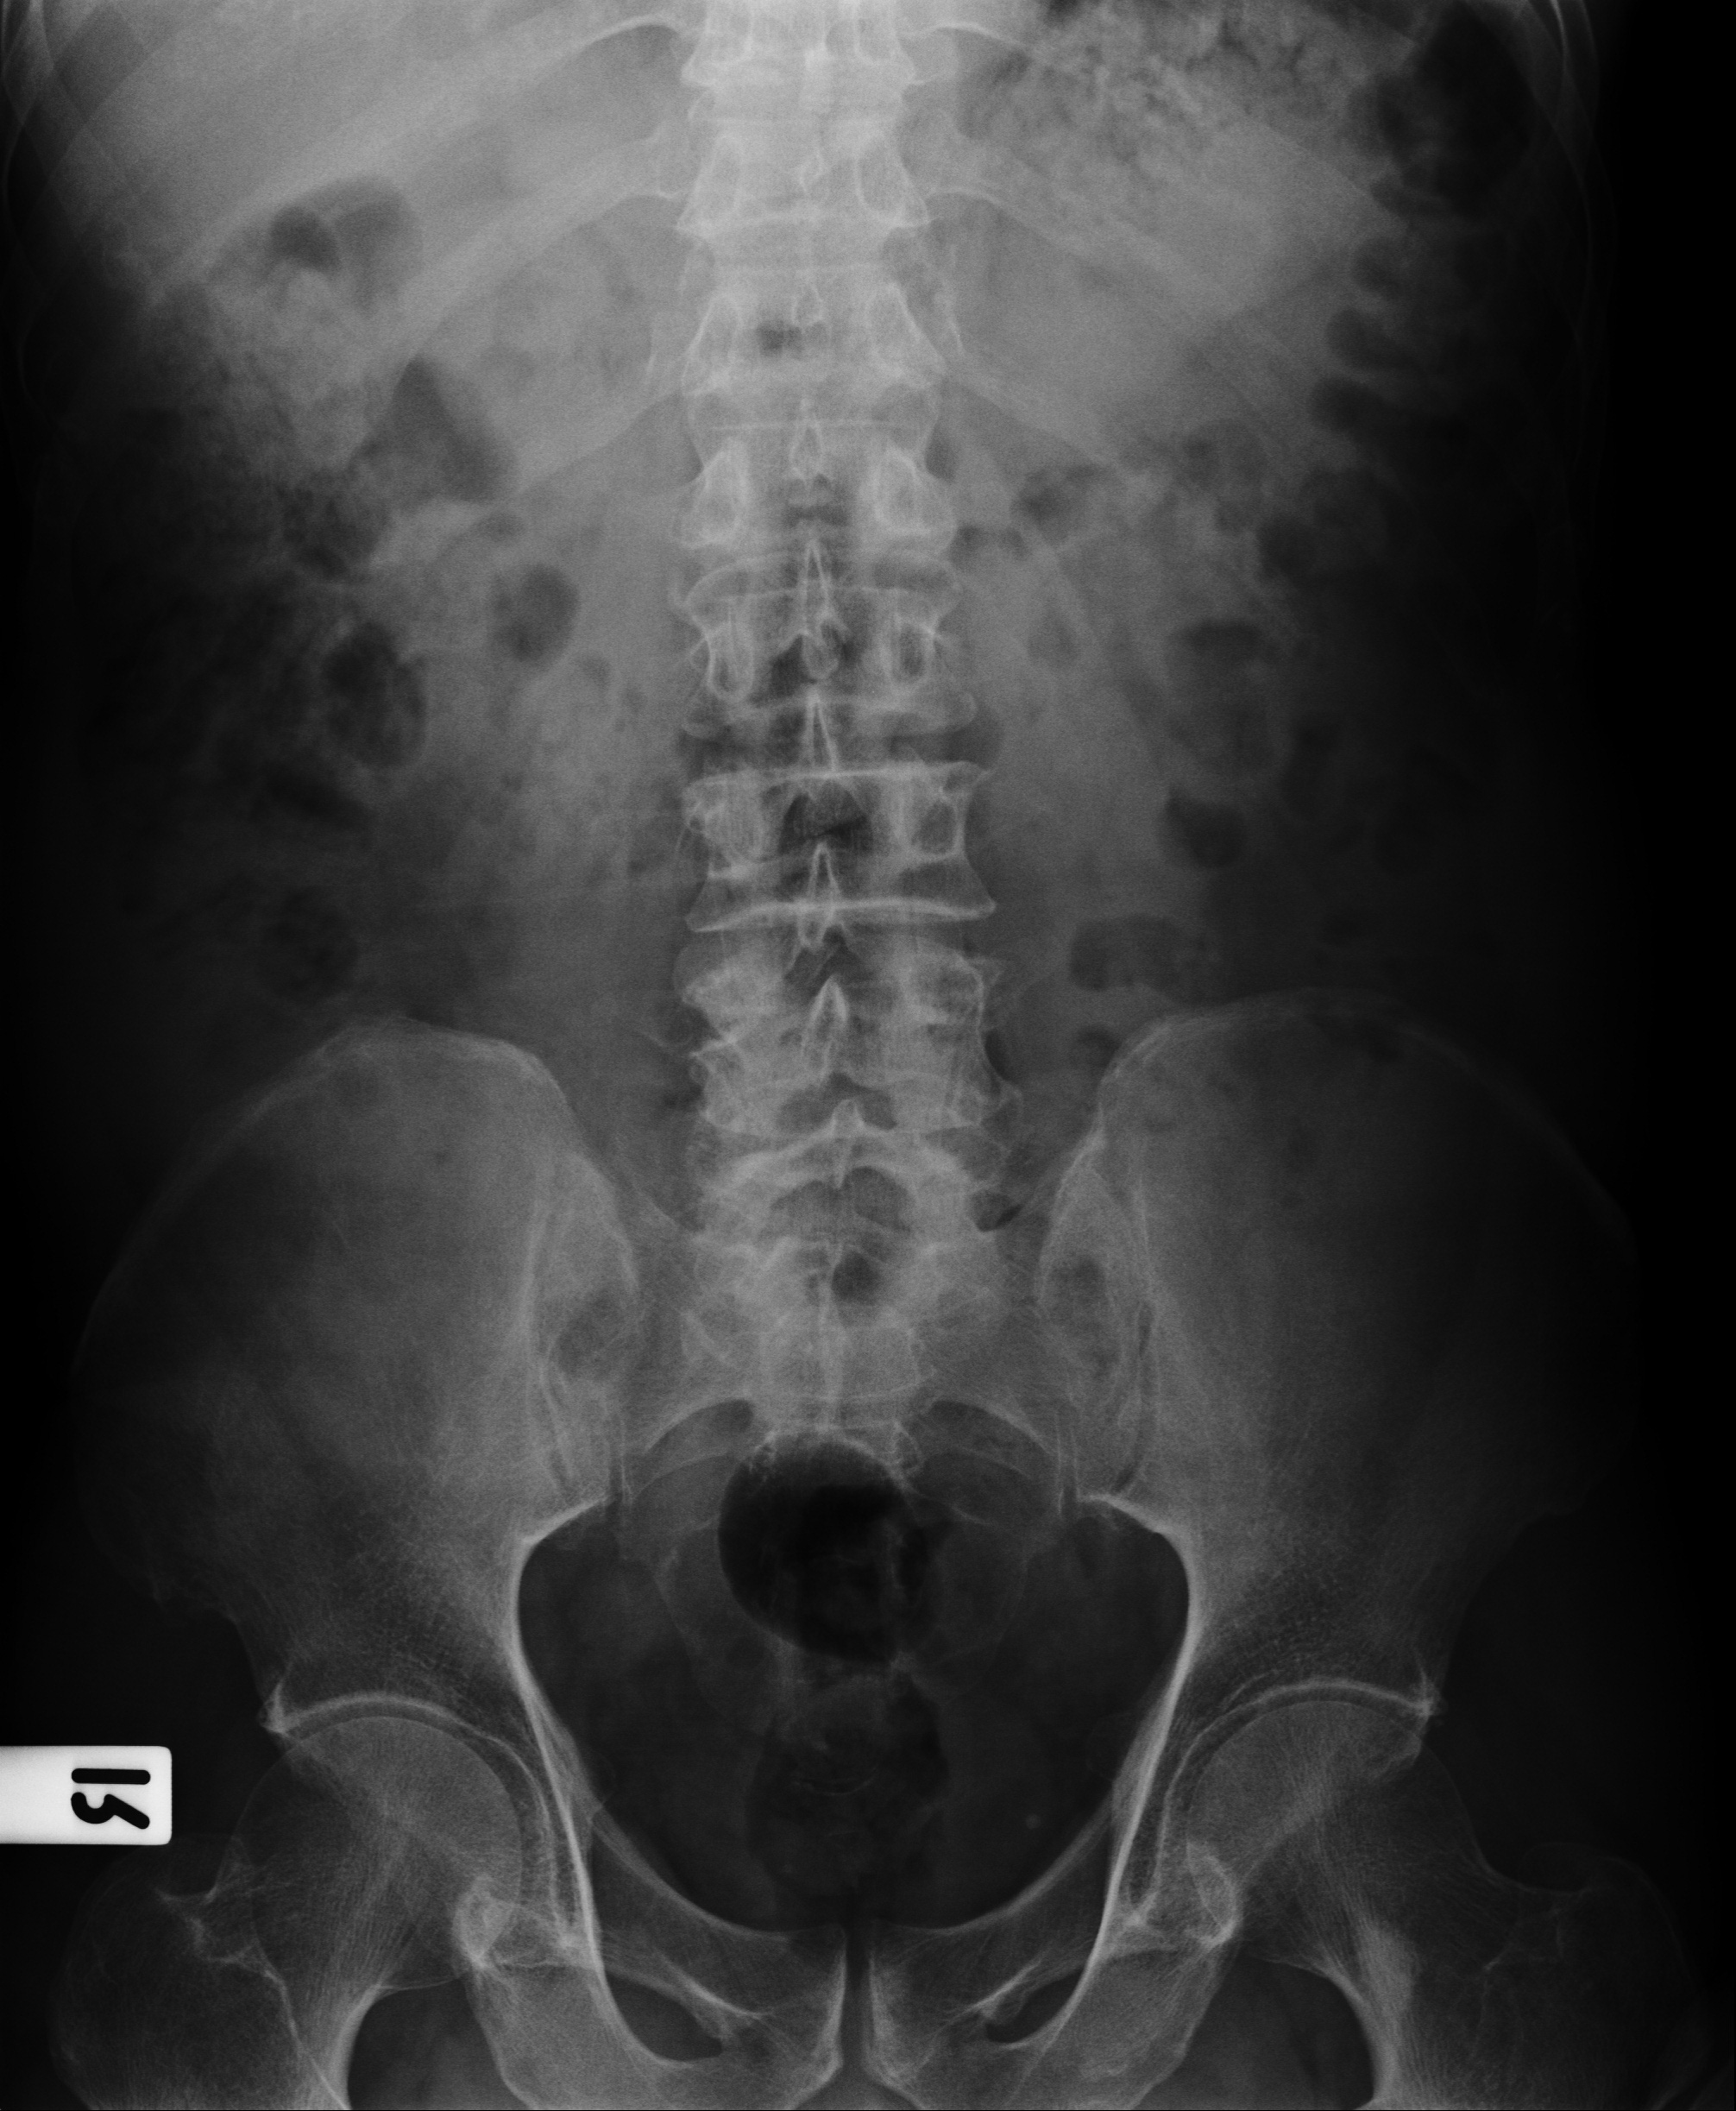lumbar scoliosis: (668, 21, 991, 1252)
